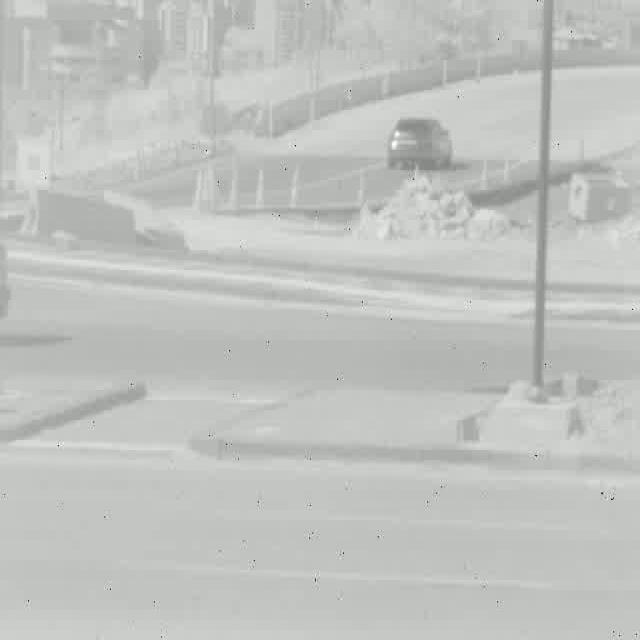Car: (387, 117, 454, 171)
